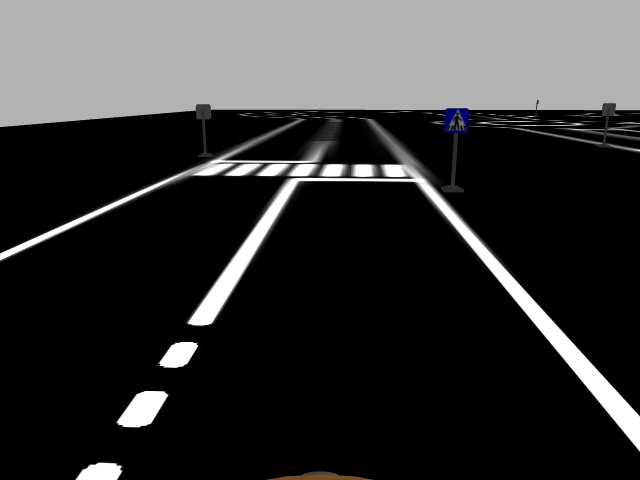crosswalk: (442, 106, 472, 137)
